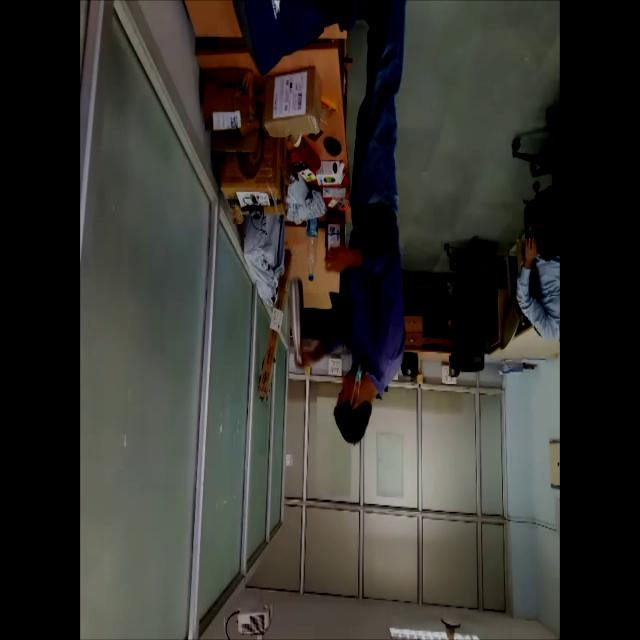normal: (282, 0, 410, 456)
